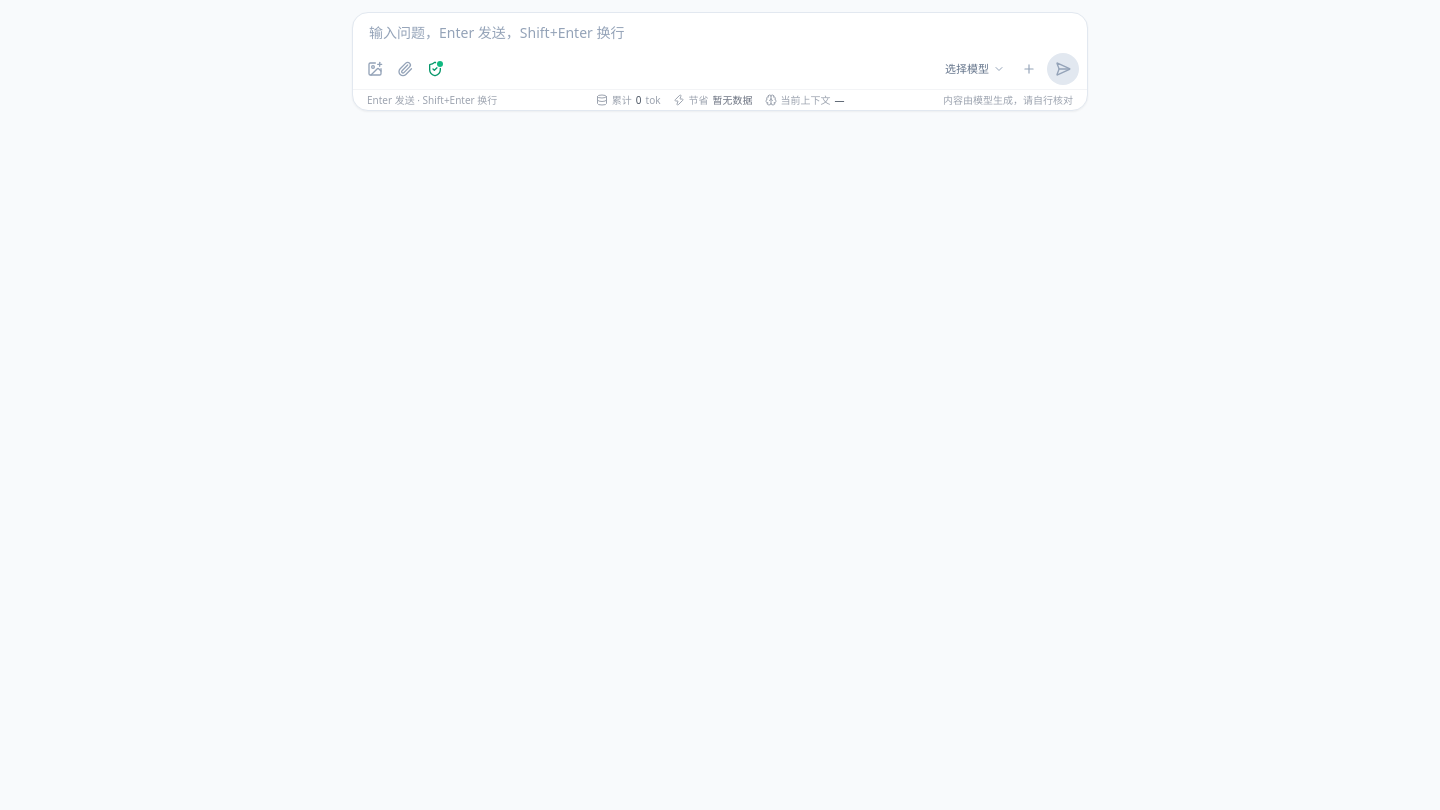
Test: 工作区切换（Workspace Switcher） › 徽章可点击，点开后显示极简输入框与权限提示
Click the button with test id "sandbox-badge". click: coordinates (435, 69)
box: [421,55,449,83]
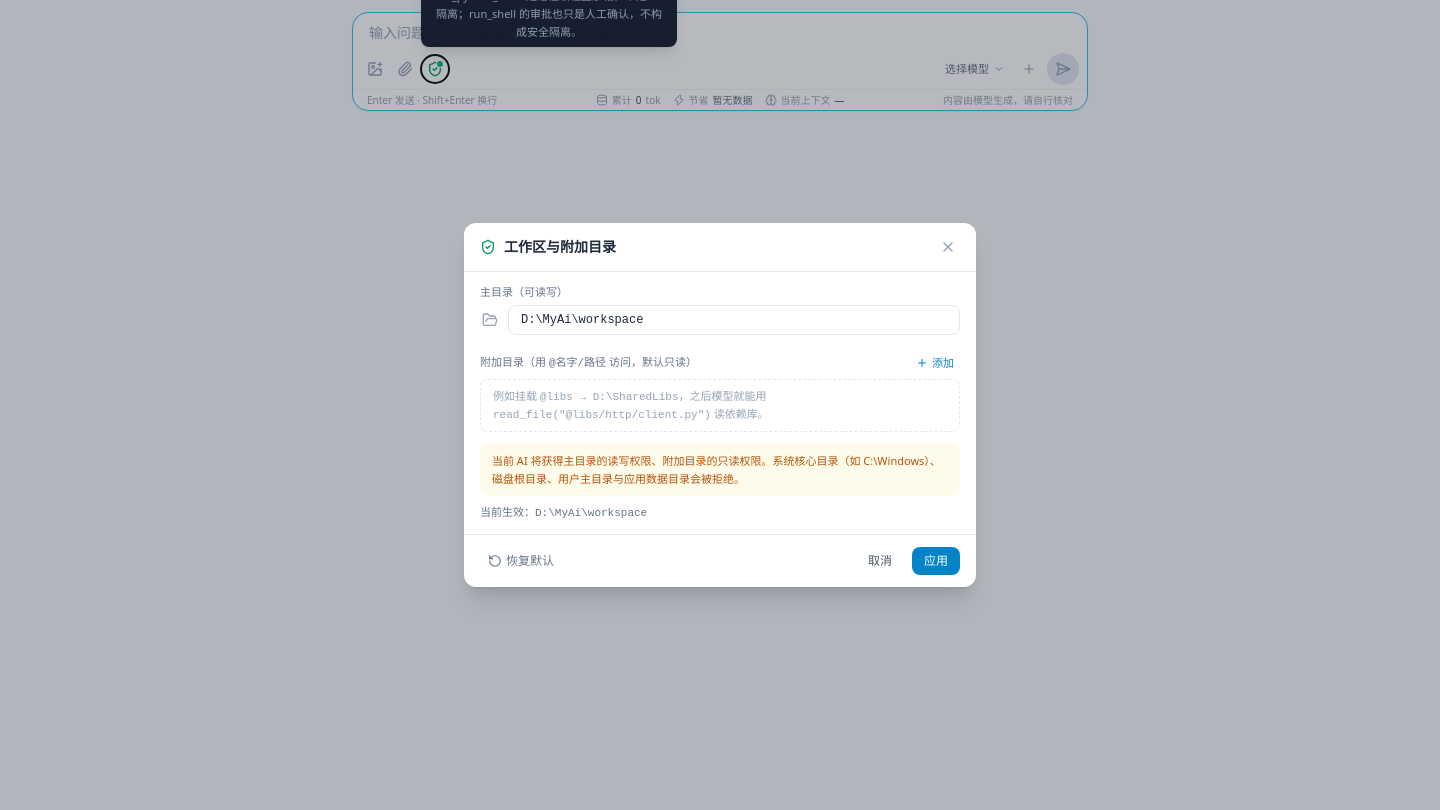
Expected: the dialog named "切换工作区" is shown, [464,223,976,587]
Expected: the text "当前 AI 将获得主目录的读写权限" is shown, [492,453,941,486]
Expected: the field named "工作区绝对路径" holds "D:\\MyAi\\workspace", [508,305,960,335]
